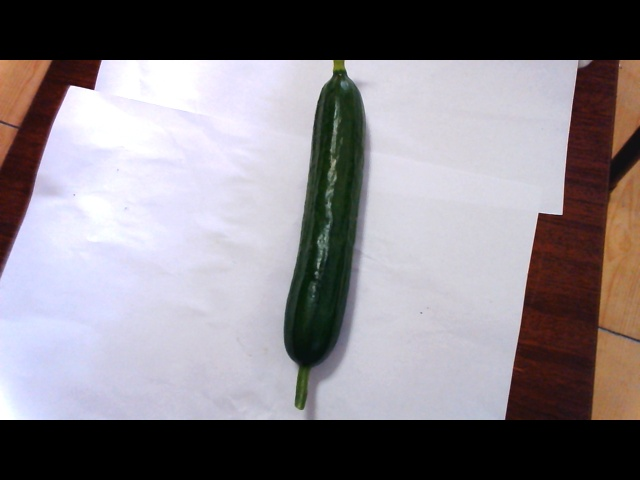cucumber: (284, 58, 363, 404)
